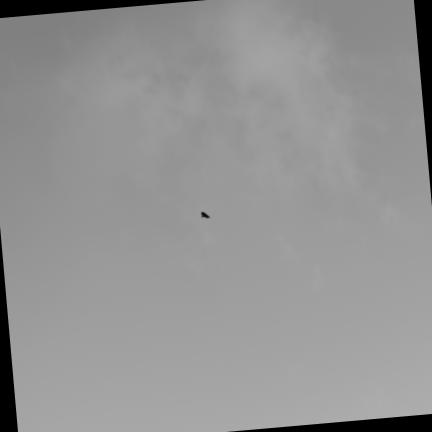Shahed: (200, 211, 211, 219)
